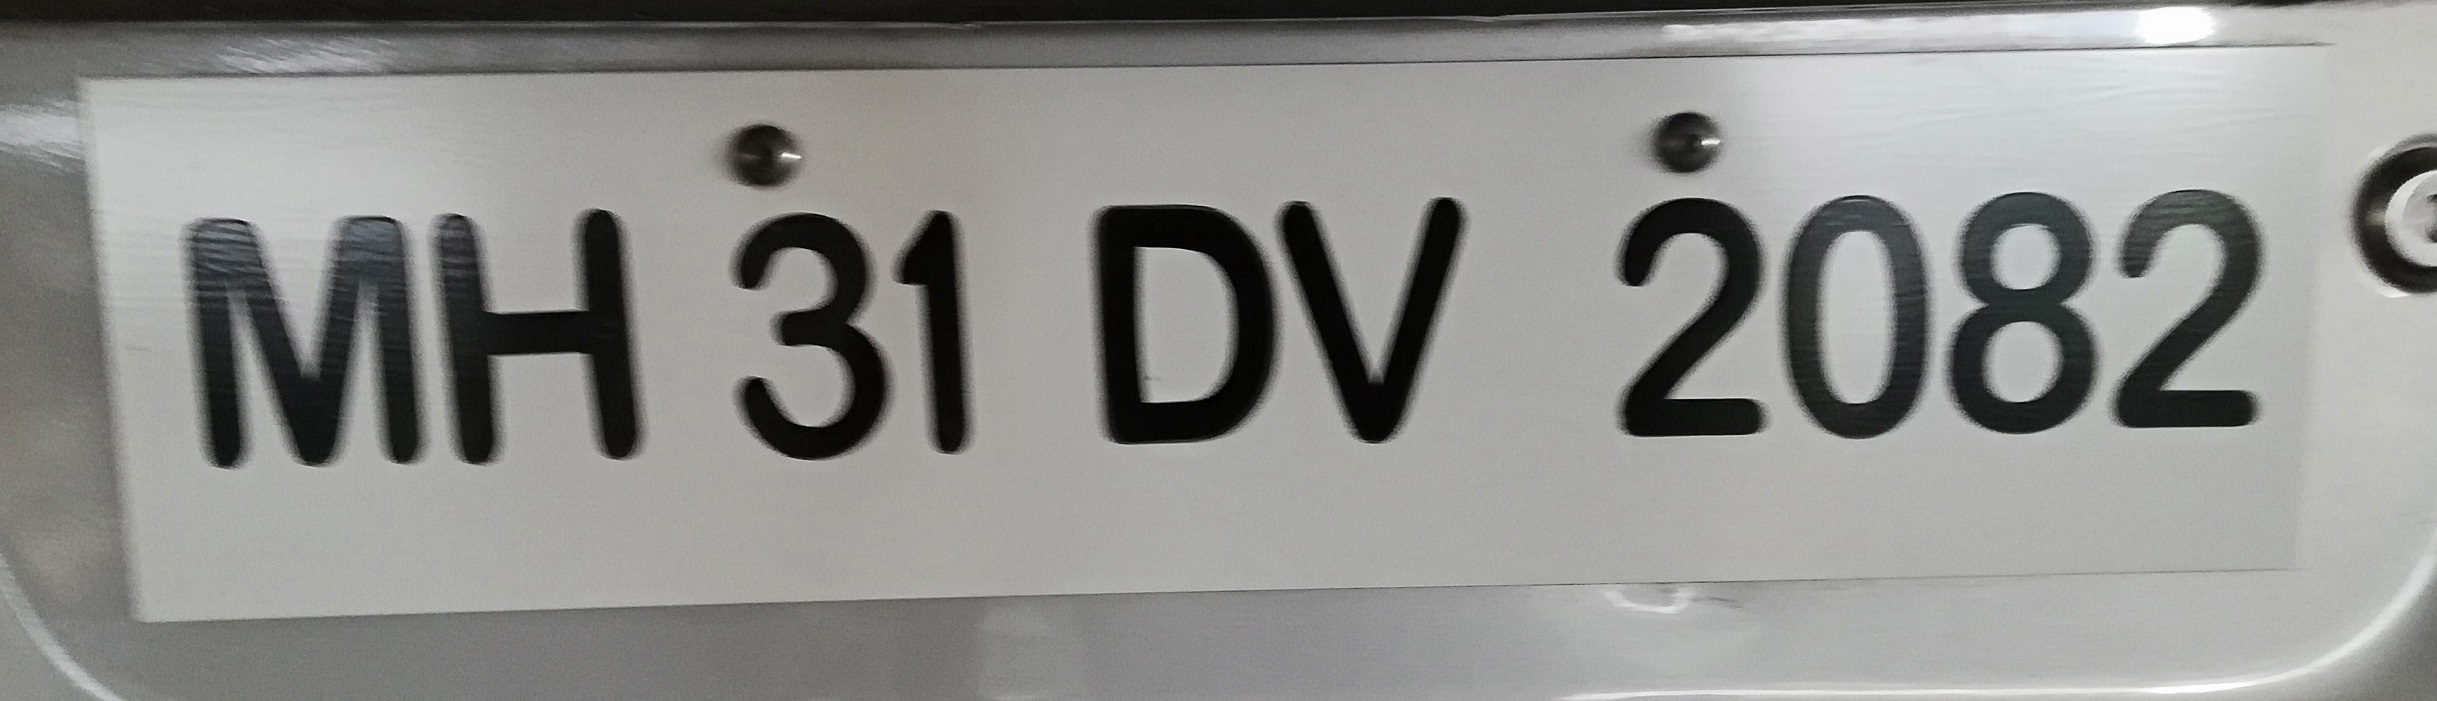numberplate: (84, 14, 2346, 637)
